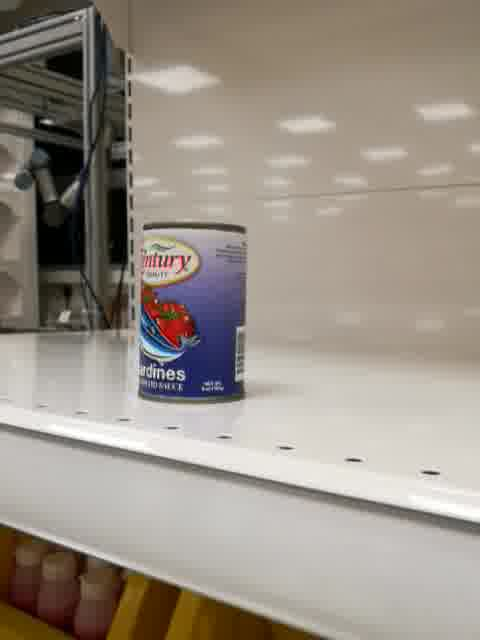sardine: (136, 218, 251, 405)
